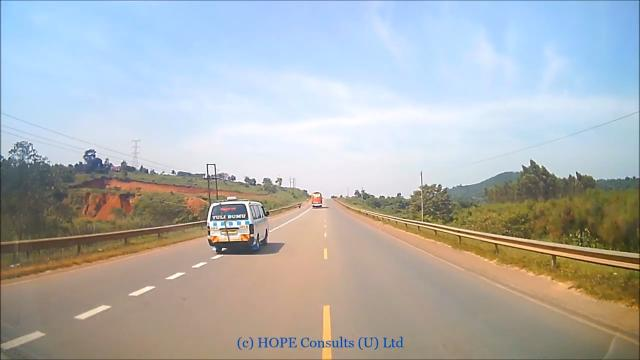bus: (310, 192, 323, 208)
van: (194, 190, 283, 263)
